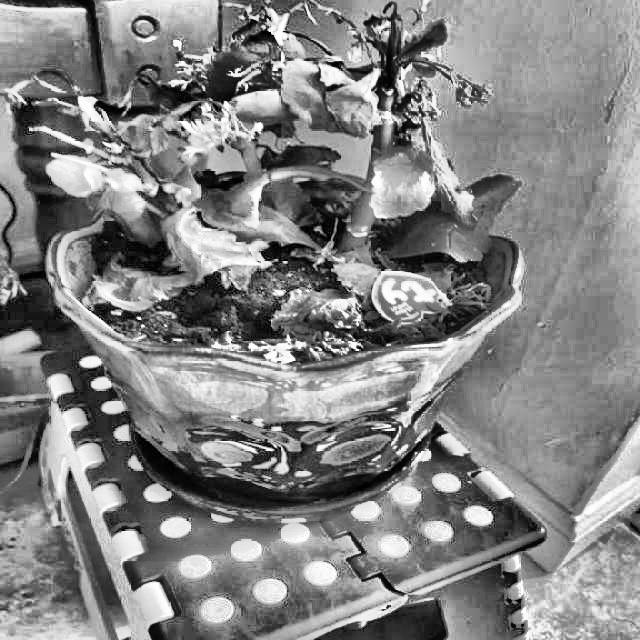plants: (0, 0, 590, 221)
